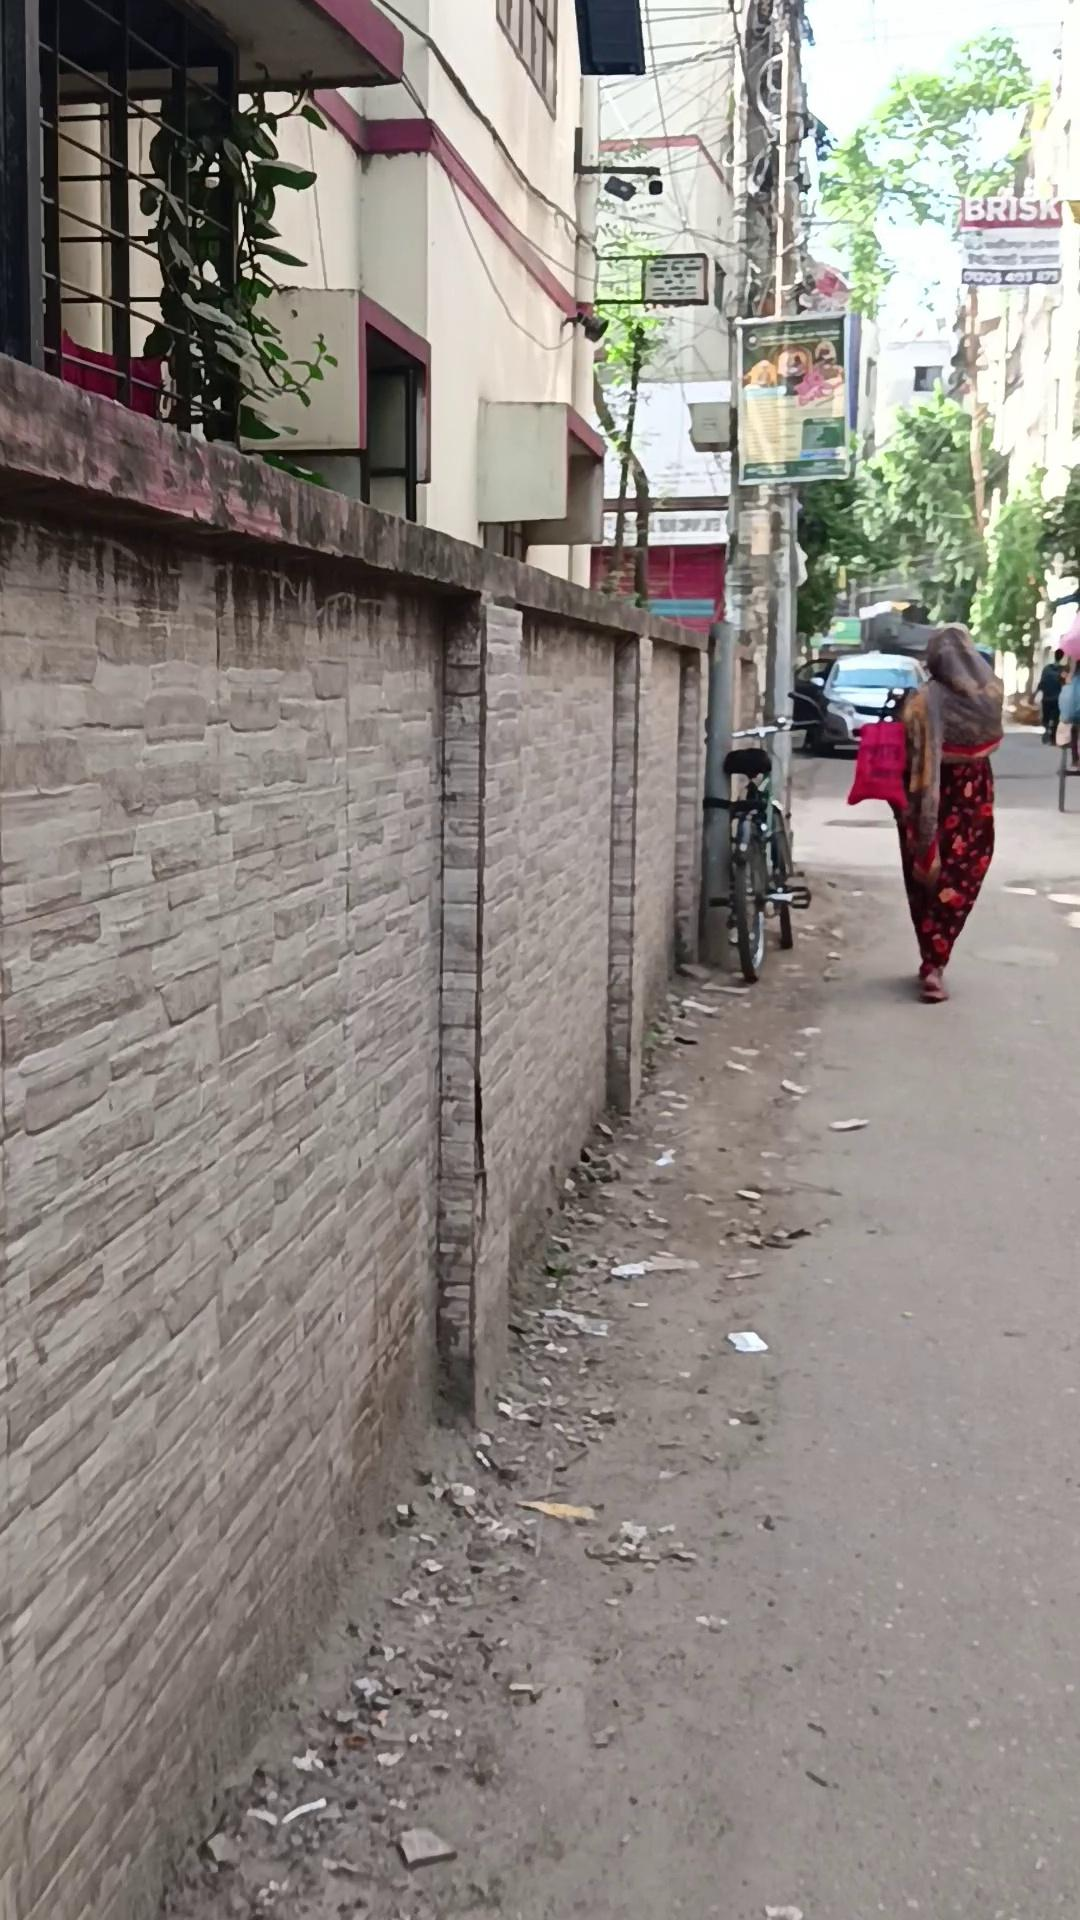Car: (789, 649, 928, 756)
Light-pole: (711, 712, 823, 982)
Muddy road: (893, 622, 1004, 1002), (796, 339, 844, 404), (1035, 647, 1065, 745), (1054, 658, 1079, 775)
Obstacle: (698, 0, 811, 965)
Stuck-water: (733, 310, 855, 487)
Tree: (0, 360, 773, 1747)
